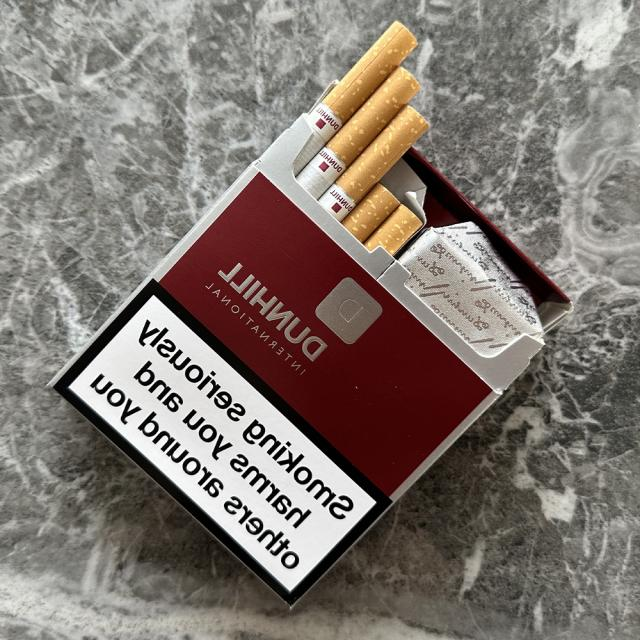dunhill: (37, 93, 570, 607)
